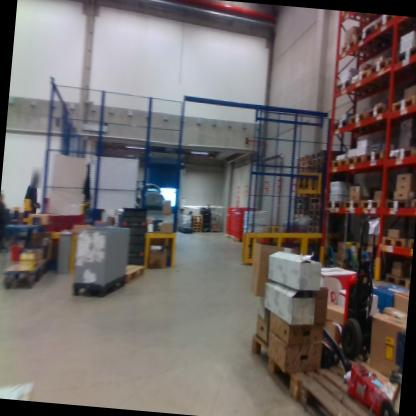pallet: (291, 345, 401, 416), (263, 343, 316, 399), (339, 32, 388, 64), (358, 24, 411, 53), (246, 328, 278, 369), (353, 68, 385, 96), (375, 15, 409, 38), (367, 56, 398, 79), (389, 91, 416, 117), (119, 262, 148, 286), (29, 213, 75, 228), (365, 100, 388, 126), (382, 232, 409, 252), (347, 105, 368, 130), (396, 40, 416, 65), (384, 270, 409, 289), (383, 196, 411, 212), (364, 148, 388, 166), (331, 117, 354, 135), (334, 74, 355, 92), (389, 151, 415, 165), (359, 197, 382, 212), (313, 146, 335, 161), (342, 194, 361, 211), (325, 198, 344, 213), (347, 153, 364, 168), (332, 154, 349, 169), (296, 151, 316, 163), (312, 155, 326, 164), (309, 201, 323, 210), (313, 163, 325, 173), (407, 237, 414, 254), (307, 220, 320, 228), (191, 211, 204, 219), (309, 214, 321, 222), (411, 144, 416, 163), (302, 165, 313, 173), (210, 228, 221, 236), (296, 161, 313, 166), (410, 198, 416, 212), (310, 196, 322, 202), (308, 209, 322, 214), (306, 227, 320, 232), (191, 218, 204, 222), (191, 221, 204, 225), (190, 224, 202, 228), (192, 227, 202, 231), (192, 230, 201, 233)
pallet_truck: (312, 194, 349, 275), (333, 199, 364, 273)
